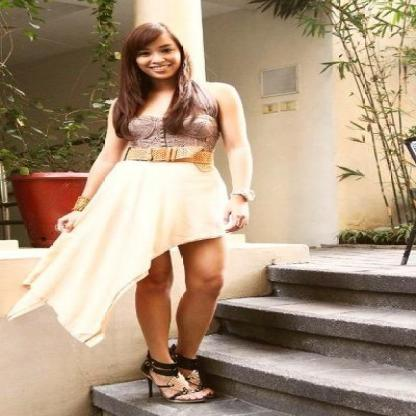dress: (0, 159, 233, 346)
shirt: (137, 99, 226, 152)
shoe: (142, 347, 211, 397)
